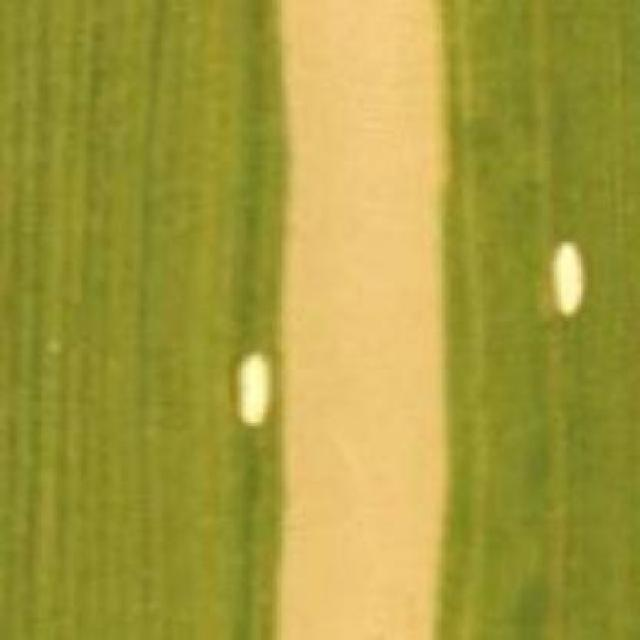whorl-maggot: (538, 238, 596, 320), (231, 344, 277, 430)
